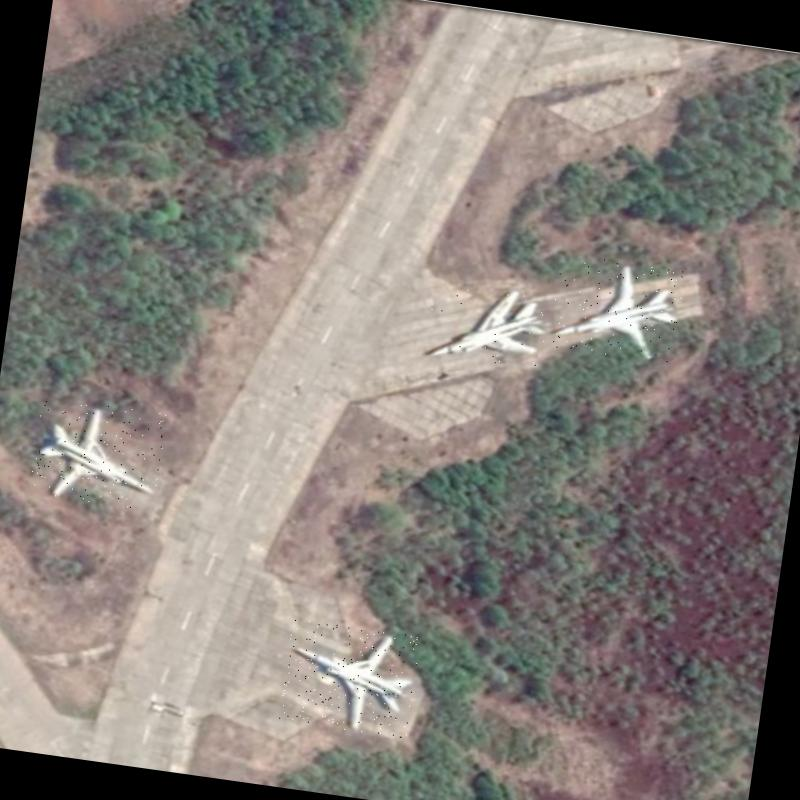A12: (278, 618, 420, 738), (546, 252, 685, 366), (29, 396, 166, 511), (422, 274, 552, 374)
